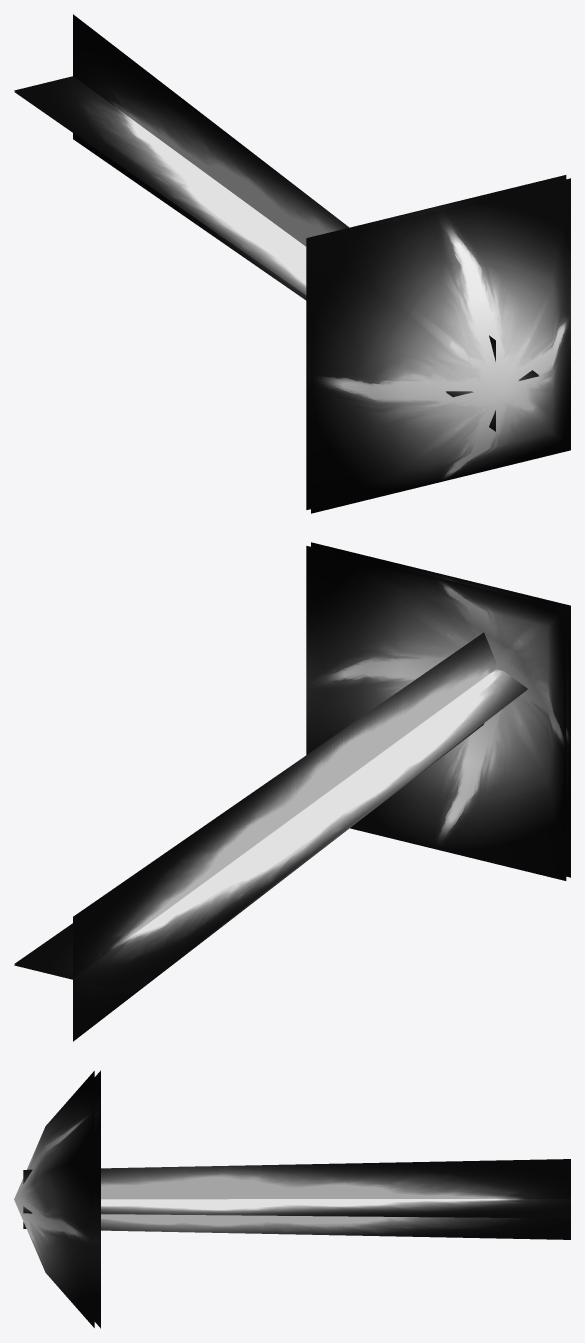
Rendered from Projectile01.FBX.
3 views of the same model, one above another, from view 1: azimuth 30°, elevation 25°; view 2: azimuth 150°, elevation 25°; view 3: azimuth 270°, elevation 25° (orthographic). The views are drawn at different scales.
Visible parts, largest first — view 1: Projectile01; view 2: Projectile01; view 3: Projectile01.
Part boxes in pixels (bbox=[...]): Projectile01: bbox=[14, 14, 570, 513]; Projectile01: bbox=[14, 542, 570, 1041]; Projectile01: bbox=[14, 1070, 570, 1328].
Size of the model in its own units: 41.05 by 118 by 41.05.
